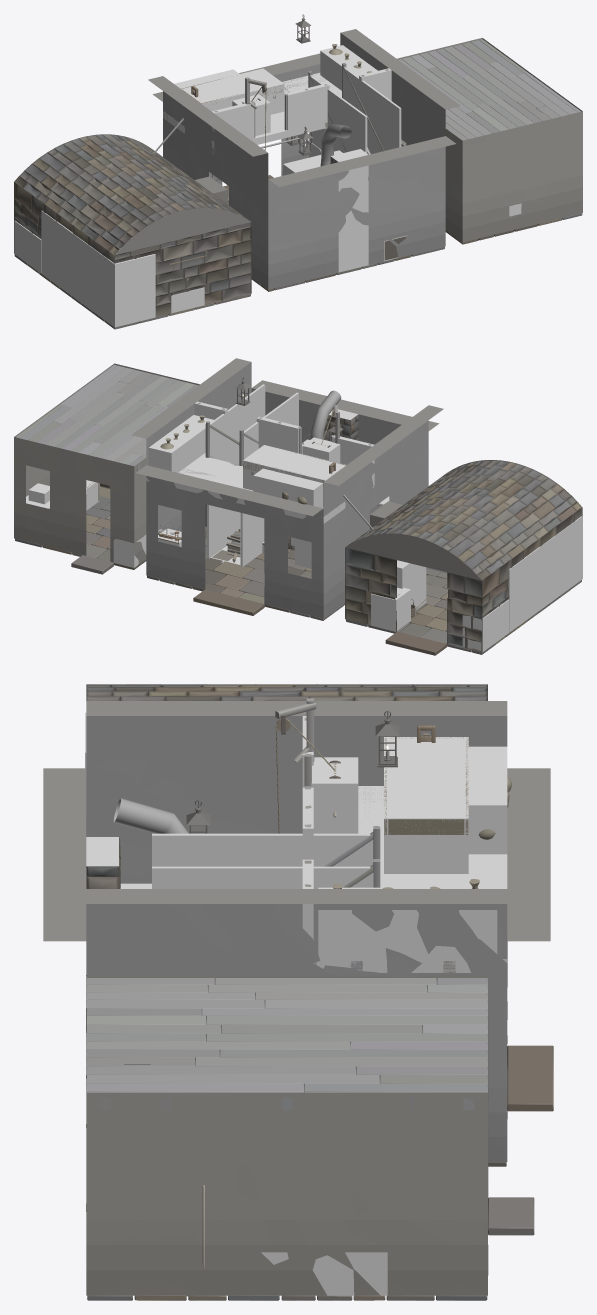
File: brewery_interior.glb
3 renders of one model, top to bottom at view 1: azimuth 30°, elevation 25°; view 2: azimuth 150°, elevation 25°; view 3: azimuth 270°, elevation 25°, orthographic. The views are drawn at different scales.
Parts seen in each view (by area): view 1: Limewash / tav_limewash, Cellar stone / tav_stone, Floor timbers / tav_board, Lager casks, Limewash / tav_mortar, Cellar stone / tav_mortar, Chimney breast, Stair rail east, Coolship, Stair rail west, Floors, Loft rail middle (+13 smaller); view 2: Limewash / tav_limewash, Cellar stone / tav_stone, Floors, Floor timbers / tav_board, Limewash / tav_mortar, Lager casks, Stair rail east, Cellar stone / tav_mortar, Coolship, Stair rail west, Hop pockets, Loft sacks (+14 smaller); view 3: Limewash / tav_limewash, Floor timbers / tav_board, Limewash / tav_mortar, Coolship, Floors, Stair rail west, Cellar stone / tav_stone, Hop pockets, Stair rail east, Loft sacks, Loft west, Windlass (+11 smaller).
Part boxes in pixels (x1,y1,x2,y2): Limewash / tav_limewash: (163, 33, 582, 289); Cellar stone / tav_stone: (14, 134, 406, 316); Floor timbers / tav_board: (398, 39, 580, 140); Lager casks: (41, 210, 155, 327); Limewash / tav_mortar: (148, 29, 460, 187); Cellar stone / tav_mortar: (115, 208, 251, 255); Chimney breast: (331, 149, 368, 272); Stair rail east: (344, 68, 401, 154); Coolship: (181, 68, 284, 114); Stair rail west: (309, 76, 367, 157); Floors: (14, 175, 582, 329); Loft rail middle: (285, 83, 329, 130); Limewash / tav_limewash: (14, 362, 428, 618); Cellar stone / tav_stone: (205, 460, 582, 652); Floors: (15, 486, 581, 655); Floor timbers / tav_board: (16, 365, 198, 466); Limewash / tav_mortar: (131, 358, 443, 516); Lager casks: (473, 516, 582, 632); Stair rail east: (207, 384, 265, 558); Cellar stone / tav_mortar: (345, 533, 481, 580); Coolship: (243, 445, 345, 507); Stair rail west: (240, 392, 298, 566); Hop pockets: (148, 415, 213, 472); Loft sacks: (253, 468, 322, 507); Limewash / tav_limewash: (86, 716, 507, 1295); Floor timbers / tav_board: (86, 978, 487, 1092); Limewash / tav_mortar: (43, 701, 550, 941); Coolship: (384, 737, 468, 873); Floors: (87, 1045, 553, 1300); Stair rail west: (152, 833, 373, 866); Cellar stone / tav_stone: (86, 684, 487, 700); Hop pockets: (318, 887, 497, 958); Stair rail east: (152, 866, 373, 888); Loft sacks: (468, 746, 507, 854); Loft west: (358, 786, 507, 888); Windlass: (312, 757, 358, 833).
Bounding box in the file's own units: 14.11 × 5.61 × 6.61.
